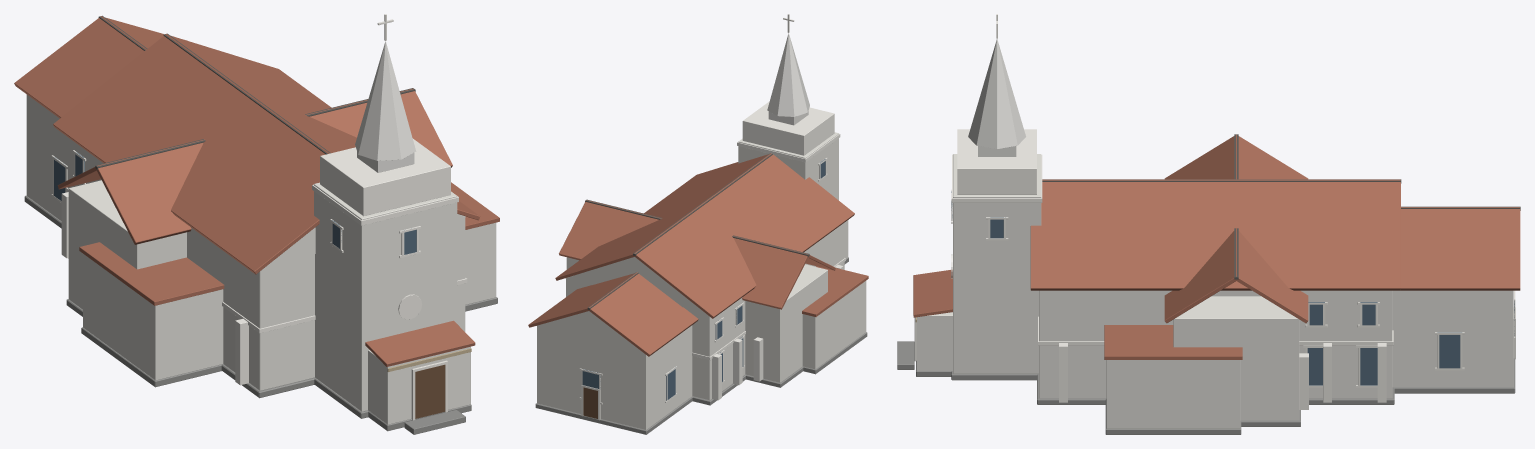
The model's file is RuralChurch.glb.
3 views of the same model, side by side, from view 1: azimuth 30°, elevation 25°; view 2: azimuth 150°, elevation 25°; view 3: azimuth 270°, elevation 25° (orthographic). The views are drawn at different scales.
Parts seen in each view (by area): view 1: FTF_RuralChurch_Large_TwoStory_Light_Static; view 2: FTF_RuralChurch_Large_TwoStory_Light_Static; view 3: FTF_RuralChurch_Large_TwoStory_Light_Static.
Boxes of the visible parts, <box> form: FTF_RuralChurch_Large_TwoStory_Light_Static: <box>14,14,499,434</box>; FTF_RuralChurch_Large_TwoStory_Light_Static: <box>528,14,868,434</box>; FTF_RuralChurch_Large_TwoStory_Light_Static: <box>897,14,1520,434</box>.
Size of the model in its own units: 19.49 by 20.19 by 33.16.
